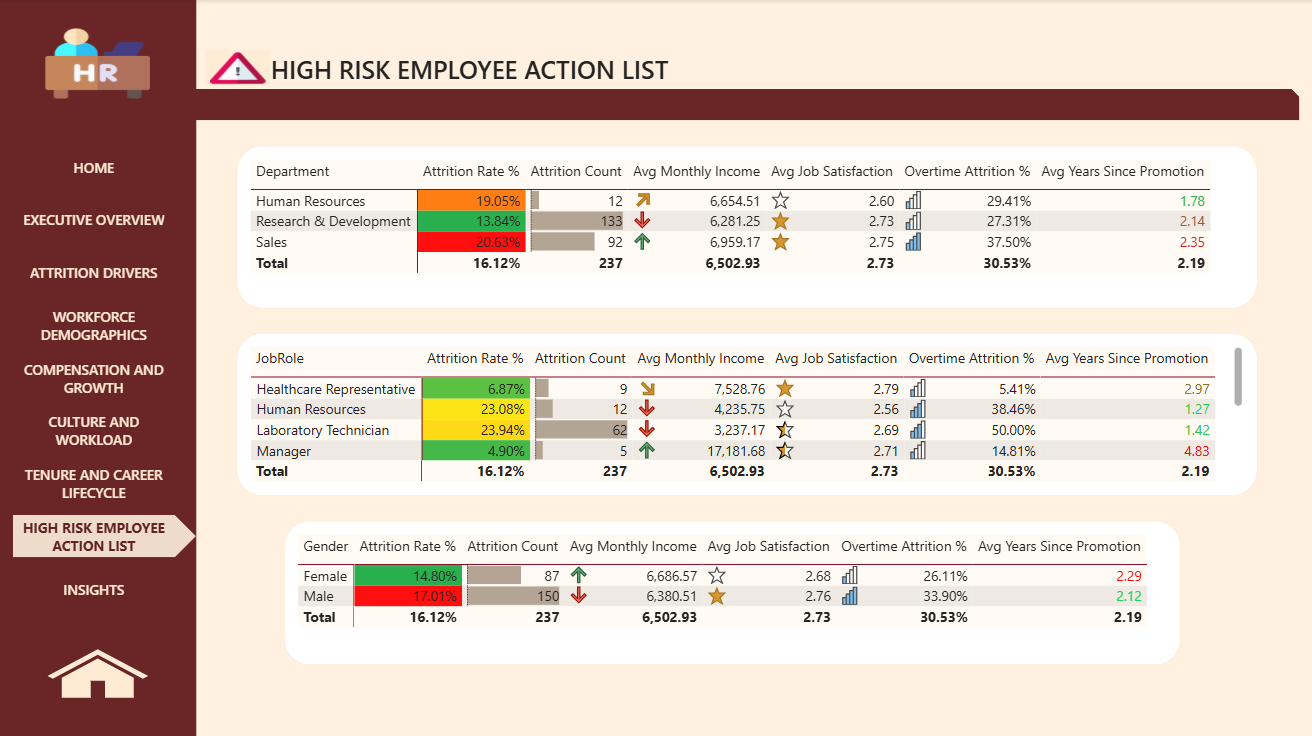

The page's visual inventory and layout, read from the dashboard file:
{"tool":"powerbi","page":{"name":"HIGH RISK EMPLOYEE ACTION LIST","canvas":[1280,720],"ordinal":7},"visuals":[{"type":"pivotTable","fields":{"Values":["Attrition.Attrition Rate %","Attrition.Attrition Count","Attrition.Avg Monthly Income","Attrition.Avg Job Satisfaction","Attrition.Overtime Attrition %","Attrition.Avg Years Since Promotion"],"Rows":["Attrition.Department"]},"box":[229.4,141.4,985.4,157.3],"z":0},{"type":"shape","box":[0,0,190.4,720.8],"z":1000},{"type":"shape","box":[0,86.6,1255.2,30.3],"z":2000},{"type":"textbox","box":[200.5,47.6,507.9,43.3],"z":3000},{"type":"pageNavigator","box":[13,141.4,177.5,455.9],"z":5000},{"type":"image","box":[27.4,26,134.2,72.1],"z":6001},{"type":"pivotTable","fields":{"Values":["Attrition.Attrition Rate %","Attrition.Attrition Count","Attrition.Avg Monthly Income","Attrition.Avg Job Satisfaction","Attrition.Overtime Attrition %","Attrition.Avg Years Since Promotion"],"Rows":["Attrition.JobRole"]},"box":[229.4,321.7,985.4,157.3],"z":6002},{"type":"pivotTable","fields":{"Values":["Attrition.Attrition Rate %","Attrition.Attrition Count","Attrition.Avg Monthly Income","Attrition.Avg Job Satisfaction","Attrition.Overtime Attrition %","Attrition.Avg Years Since Promotion"],"Rows":["Attrition.Gender"]},"box":[275.6,503.5,865.7,139.9],"z":6003},{"type":"image","box":[199.1,47.6,62,39],"z":6004},{"type":"image","box":[40.4,618.9,111.1,63.5],"z":6005}]}

Visuals, with their boxes on the page's 1280x720 design canvas (x1, y1, x2, y2). These are canvas units, not pixel positions in the 1312x736 screenshot, which may show the page scaled, cropped or inside an application window:
pivotTable - Attrition.Attrition Rate % x Attrition.Attrition Count: region(229, 141, 1215, 299)
shape: region(0, 0, 190, 721)
shape: region(0, 87, 1255, 117)
textbox: region(200, 48, 708, 91)
pageNavigator: region(13, 141, 190, 597)
image: region(27, 26, 162, 98)
pivotTable - Attrition.Attrition Rate % x Attrition.Attrition Count: region(229, 322, 1215, 479)
pivotTable - Attrition.Attrition Rate % x Attrition.Attrition Count: region(276, 504, 1141, 643)
image: region(199, 48, 261, 87)
image: region(40, 619, 152, 682)
